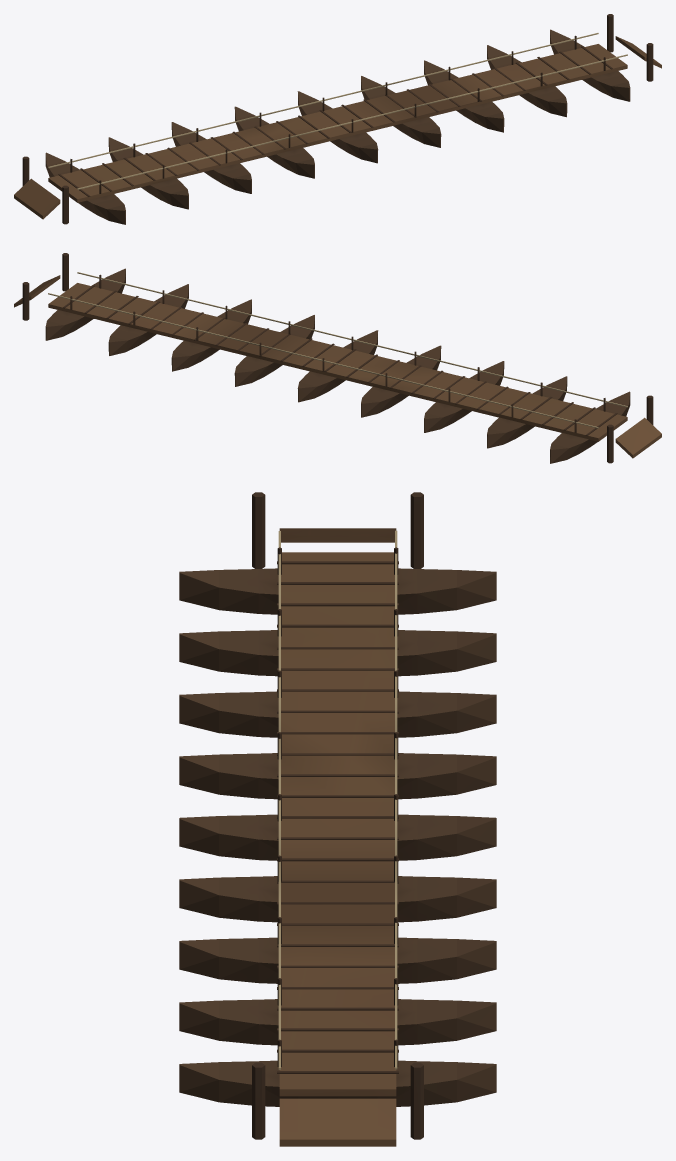
Rendered from rialto-pontoon.glb.
3 views of the same model, one above another, from view 1: azimuth 30°, elevation 25°; view 2: azimuth 150°, elevation 25°; view 3: azimuth 270°, elevation 25° (orthographic). The views are drawn at different scales.
Visible parts, largest first — view 1: p1_deck, p0_boats; view 2: p1_deck, p0_boats; view 3: p1_deck, p0_boats.
Boxes of the visible parts, x1,y1,x2,y2 form: p1_deck: (14,14,661,224); p0_boats: (45,29,630,224); p1_deck: (14,253,661,463); p0_boats: (45,268,630,463); p1_deck: (252,492,423,1146); p0_boats: (179,568,496,1106).
Bounding box in the file's own units: 54 × 3 × 12.
